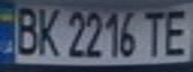1: (103, 7, 124, 58)
2: (63, 6, 87, 60), (84, 6, 106, 60)
6: (118, 7, 142, 58)
B: (9, 2, 42, 56)
E: (157, 3, 193, 57)
K: (33, 2, 63, 57)
T: (139, 6, 169, 57)
